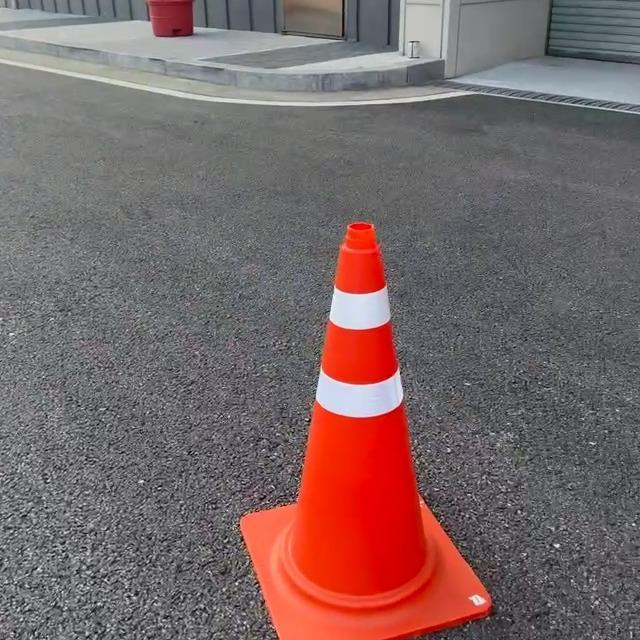fallen_object: (200, 166, 544, 640)
